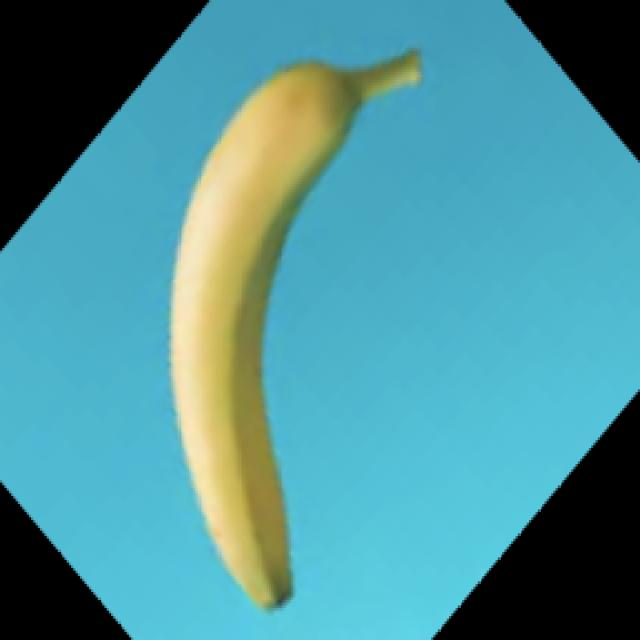god quality banana: (171, 51, 422, 607)
